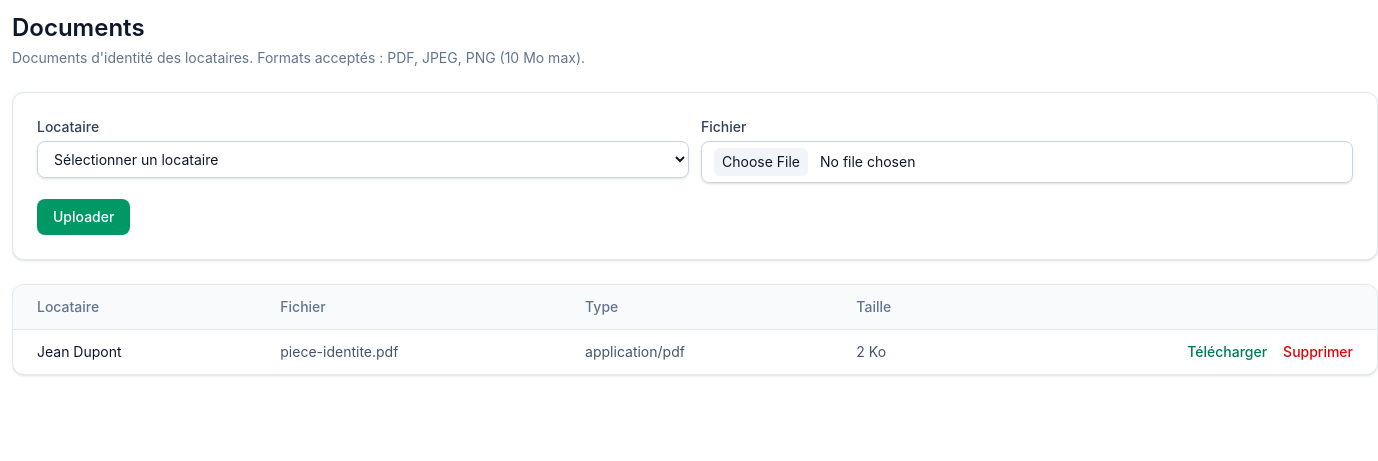
Test case: DocumentsPage › affiche le message serveur si la suppression échoue et garde le document dans la liste
Expected: the text "piece-identite.pdf" is shown, x1=256 y1=330 x2=561 y2=374
Click the button "Supprimer": (1318, 352) x1=1283 y1=342 x2=1353 y2=362
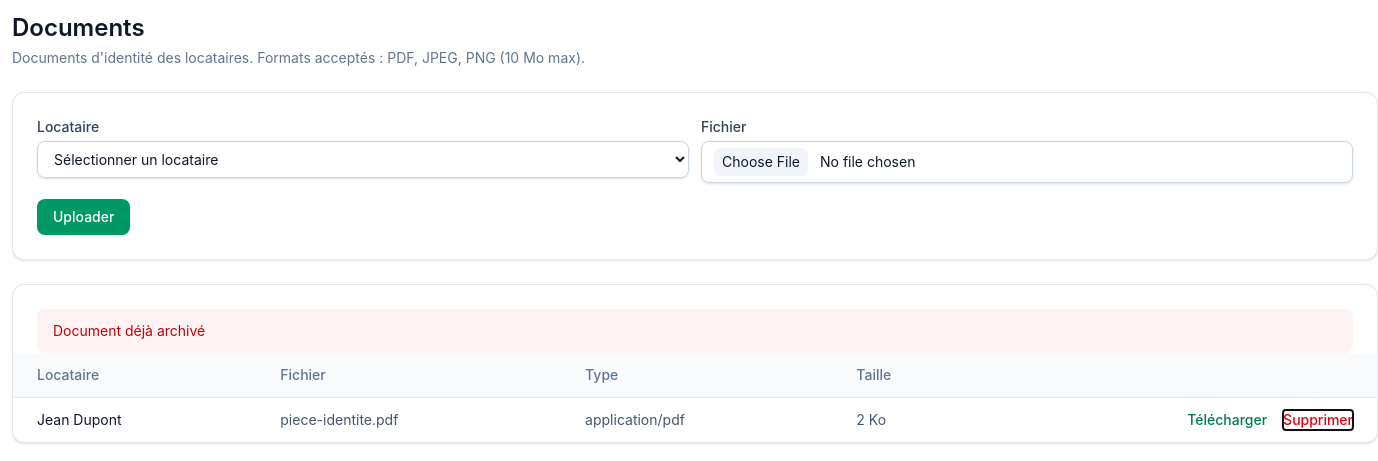
Expected: the text "piece-identite.pdf" is shown, x1=256 y1=398 x2=561 y2=442
Now the message reads "Document déjà archivé", box x1=53 y1=322 x2=205 y2=339
